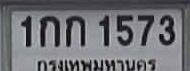1: (20, 15, 31, 46), (98, 14, 108, 46)
3: (158, 14, 174, 45)
5: (116, 14, 132, 45)
7: (137, 14, 153, 45)
A01: (39, 15, 59, 46), (65, 15, 84, 46)
BKK: (35, 57, 158, 71)
